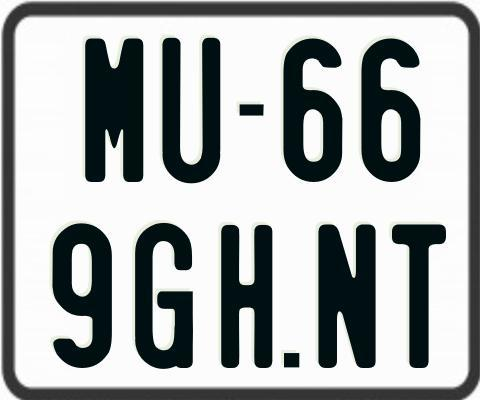6: (359, 36, 421, 186), (283, 35, 345, 180)
9: (51, 222, 116, 367)
G: (133, 221, 194, 372)
H: (218, 224, 275, 371)
M: (82, 35, 141, 182)
N: (316, 221, 380, 365)
T: (389, 221, 449, 371)
U: (159, 37, 222, 183)
